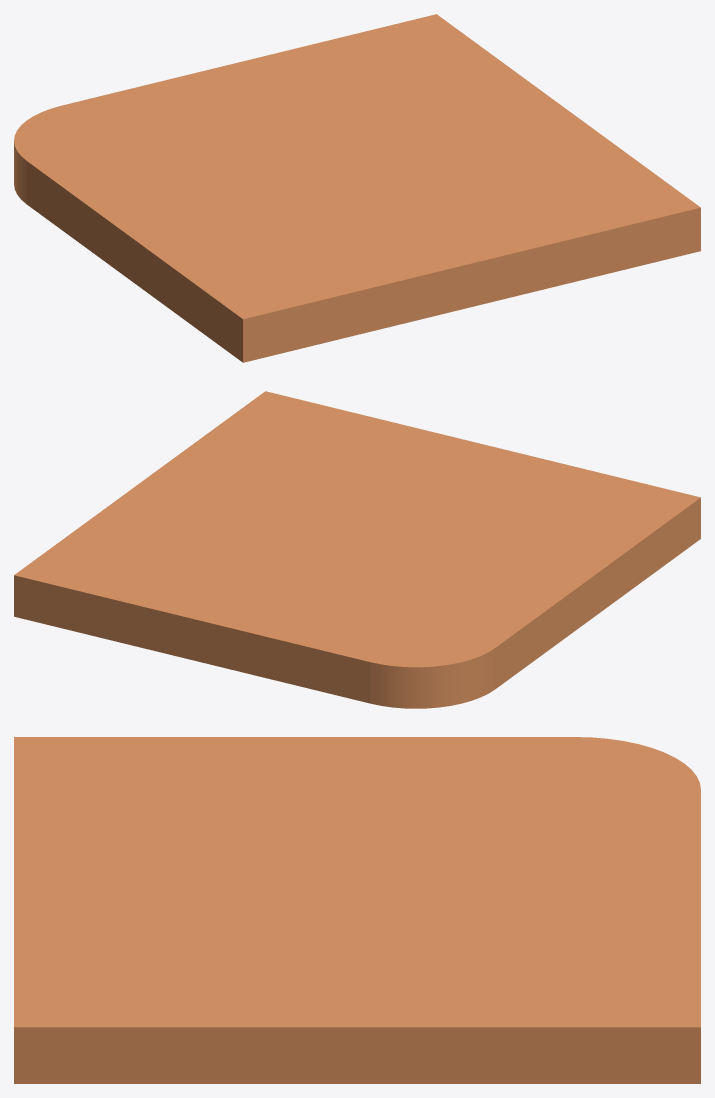
File: floorCornerRound.fbx
The picture shows the model from 3 angles, top to bottom: view 1: azimuth 30°, elevation 25°; view 2: azimuth 150°, elevation 25°; view 3: azimuth 270°, elevation 25°; orthographic projection. The views are drawn at different scales.
Parts seen in each view (by area): view 1: floorCornerRound; view 2: floorCornerRound; view 3: floorCornerRound.
Part boxes in pixels (x1=…): floorCornerRound: x1=14, y1=14, x2=700, y2=362; floorCornerRound: x1=14, y1=391, x2=700, y2=708; floorCornerRound: x1=14, y1=737, x2=700, y2=1083.
Size of the model in its own units: 5.5 by 0.5 by 5.5.
